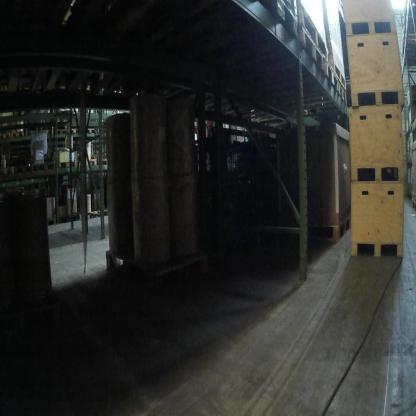pallet: (188, 23, 326, 78), (101, 233, 210, 302), (180, 3, 301, 54), (265, 55, 340, 96), (266, 215, 354, 247), (271, 79, 348, 108), (10, 155, 33, 177), (30, 158, 56, 173), (400, 47, 416, 69), (77, 157, 98, 171), (402, 10, 415, 32), (401, 28, 415, 48), (57, 159, 76, 171), (25, 127, 42, 140), (68, 122, 83, 136), (44, 217, 57, 231), (12, 128, 25, 142), (2, 165, 13, 180), (84, 123, 97, 135), (54, 125, 68, 136), (0, 130, 12, 142), (97, 123, 108, 135), (42, 127, 54, 138), (411, 196, 415, 215)
stillage: (224, 129, 289, 267), (167, 126, 228, 268)
